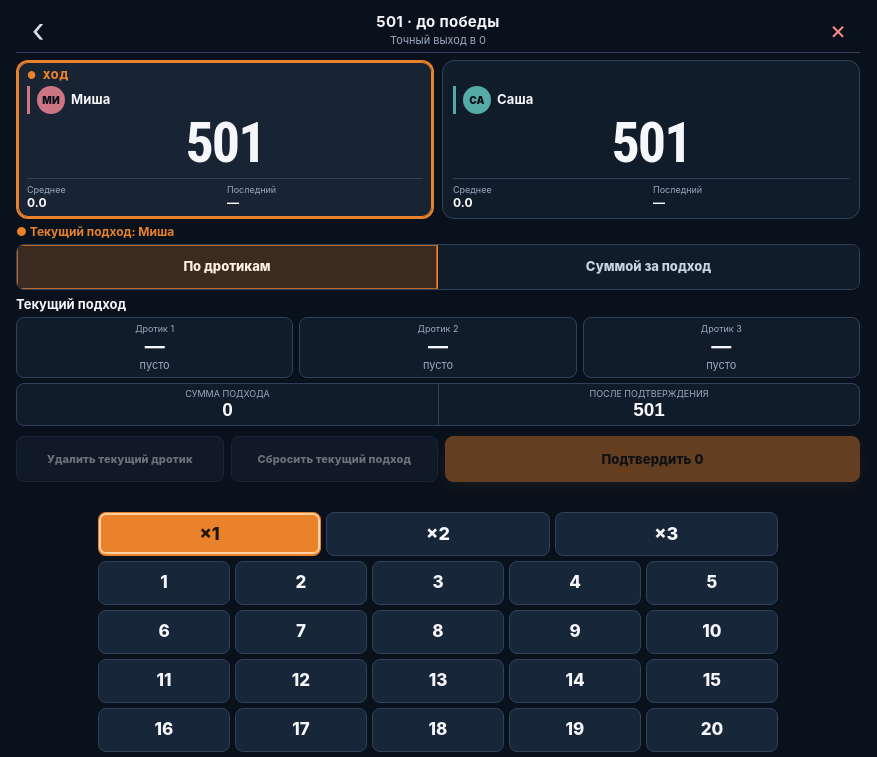
Test: dart pad during a pending write (CLI-3) › does not lose a throw that was pressed while the previous write was still running
Click the button named "Сектор 20, множитель 1". click: (712, 730)
box: x1=646 y1=708 x2=778 y2=752
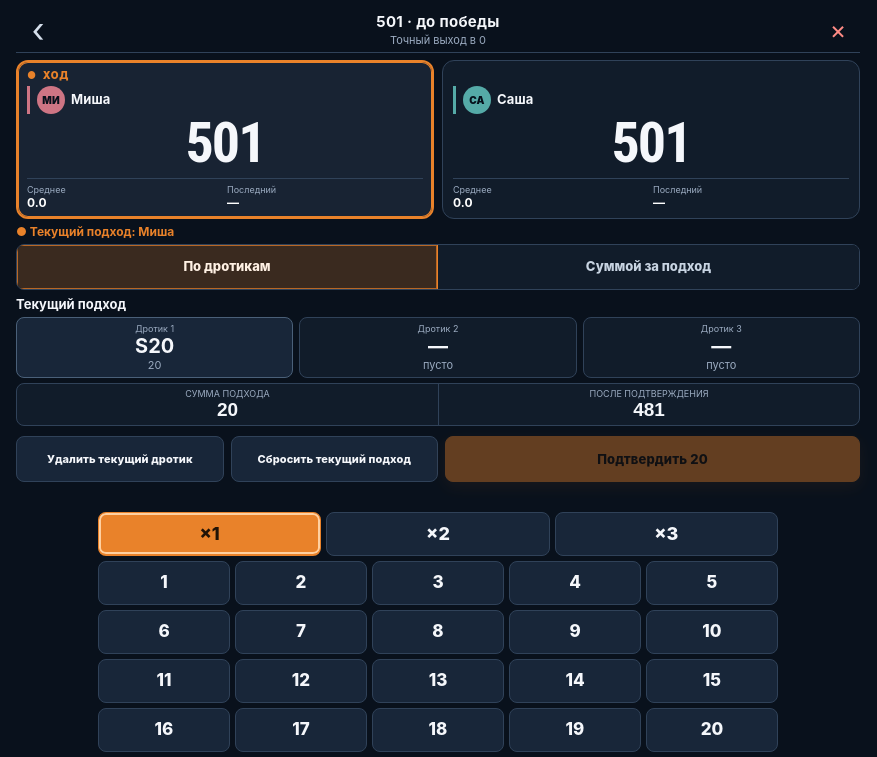
Click the button with aria-label "Дротик 1: S20, заменить". click: (155, 347)
box: x1=16 y1=317 x2=293 y2=378
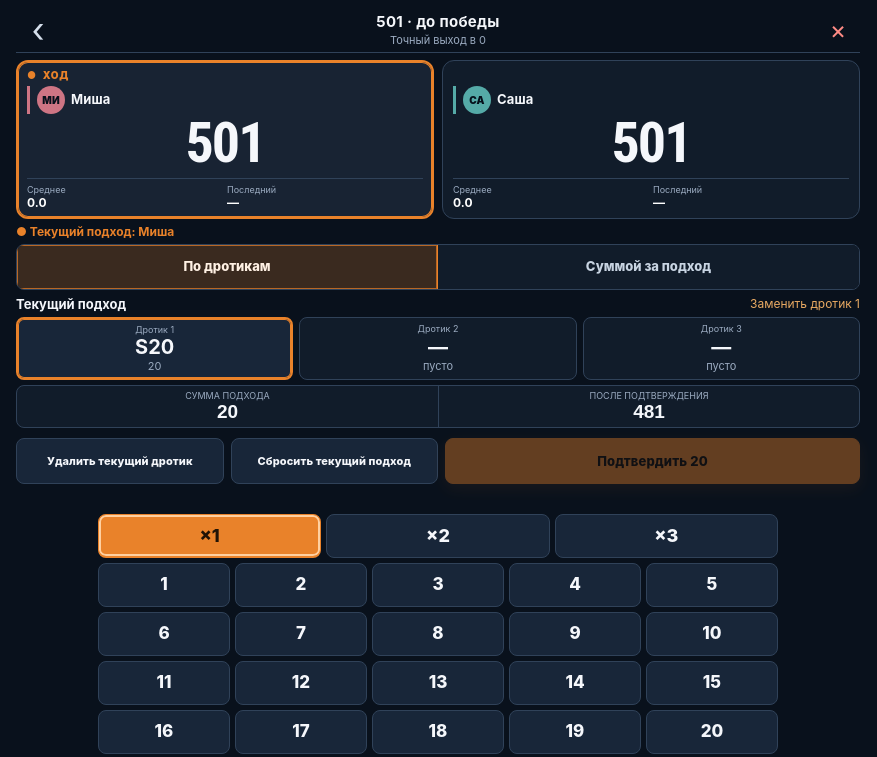
Click the button named "Сектор 19, множитель 1". click: (575, 732)
box: x1=509 y1=710 x2=641 y2=754
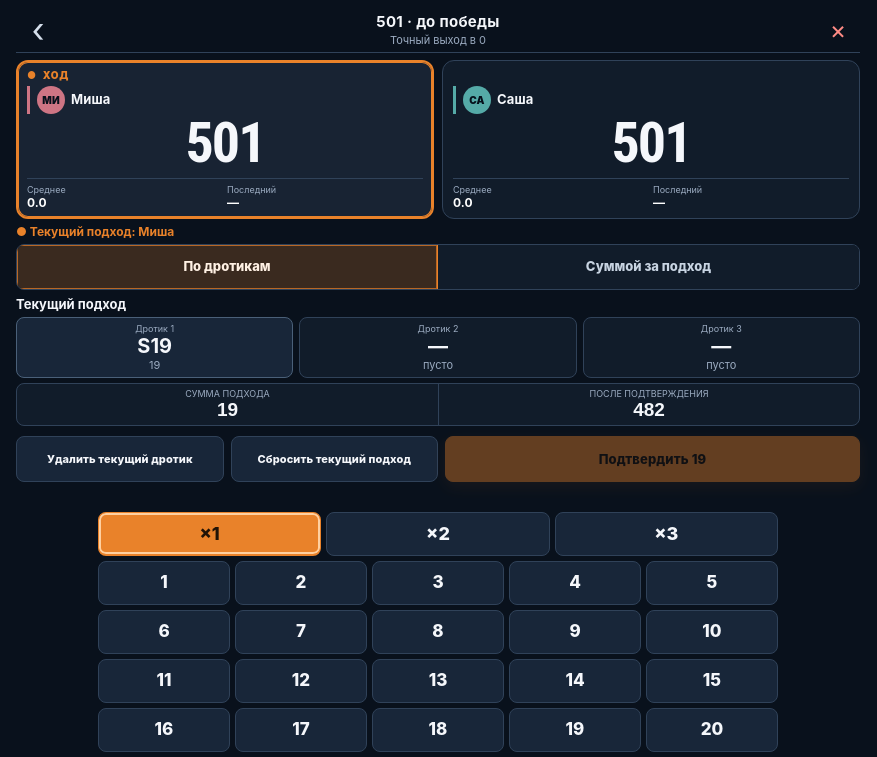
Result: the button with aria-label "Дротик 1: S19, заменить" is shown at x1=16 y1=317 x2=293 y2=378
